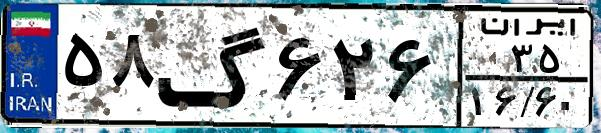0: (560, 70, 590, 125)
1: (470, 70, 495, 125)
2: (330, 28, 385, 110)
3: (508, 27, 537, 80)
5: (57, 26, 110, 100), (537, 27, 568, 80)
6: (270, 28, 330, 110), (385, 28, 445, 110), (495, 70, 520, 125), (535, 70, 560, 125)
8: (110, 28, 156, 98)
گ: (156, 12, 270, 120)
